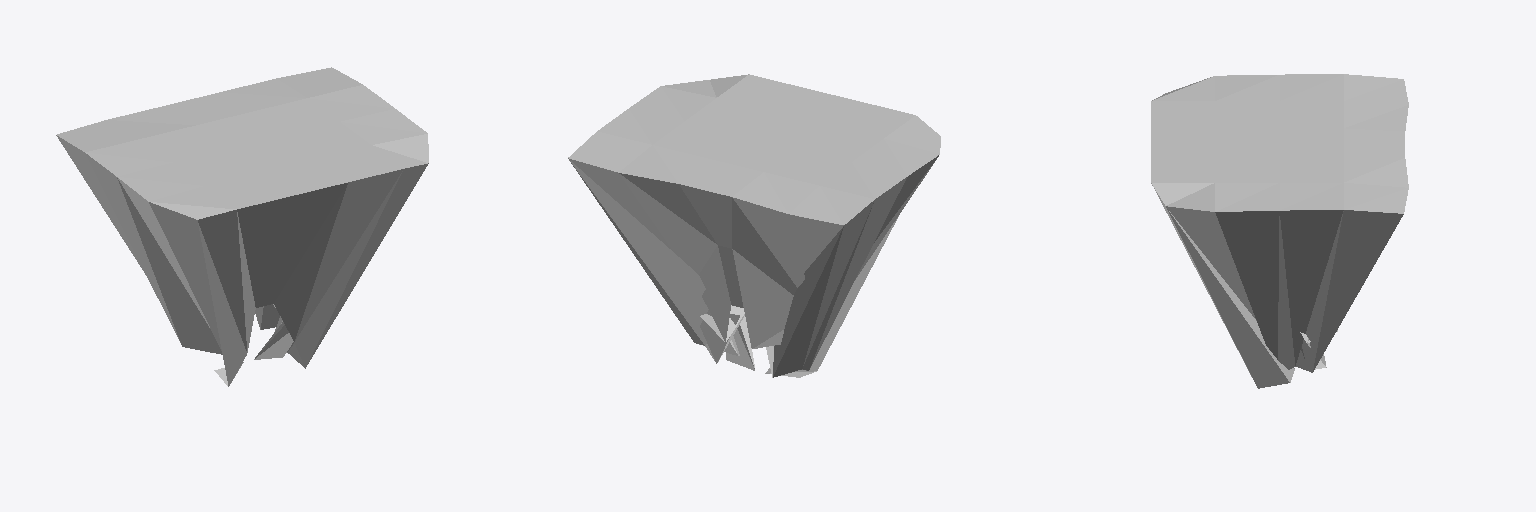
File: stone006.obj
3 views of the same model, side by side, from view 1: azimuth 30°, elevation 25°; view 2: azimuth 150°, elevation 25°; view 3: azimuth 270°, elevation 25° (orthographic).
Parts seen in each view (by area): view 1: Landscape; view 2: Landscape; view 3: Landscape.
Boxes of the visible parts, <box> form: Landscape: <box>56,67,428,386</box>; Landscape: <box>568,74,940,377</box>; Landscape: <box>1151,74,1408,388</box>.
Size of the model in its own units: 0.7176 by 0.5595 by 0.5733.